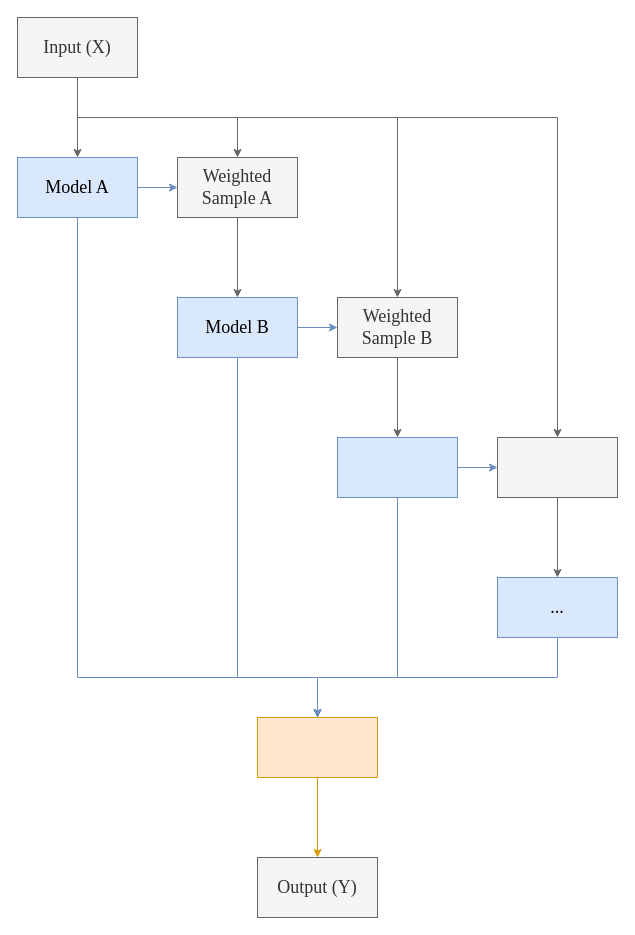
This 635x935 diagram has some shape labels left out. The box of each missing label's shape, as (x1, y1, x2, y2) in pixels:
Combine: (256, 716, 378, 778)
Model C: (336, 436, 458, 498)
Weighted Sample C: (496, 436, 618, 498)
